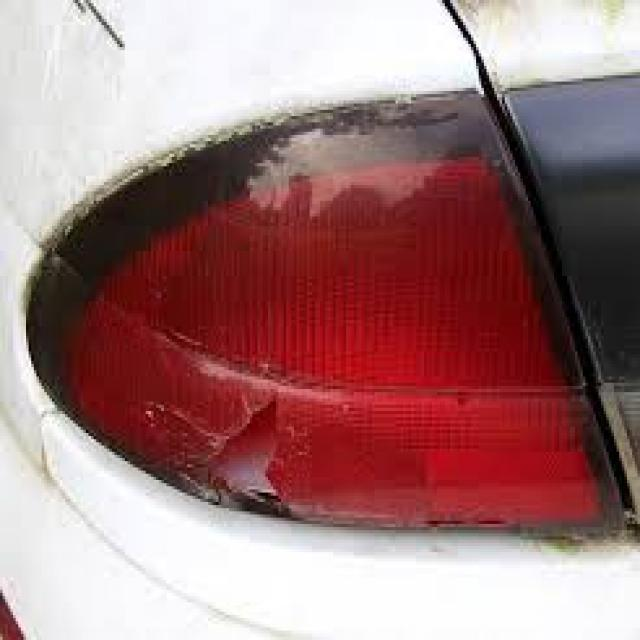damaged-tail-light: (18, 64, 640, 553)
